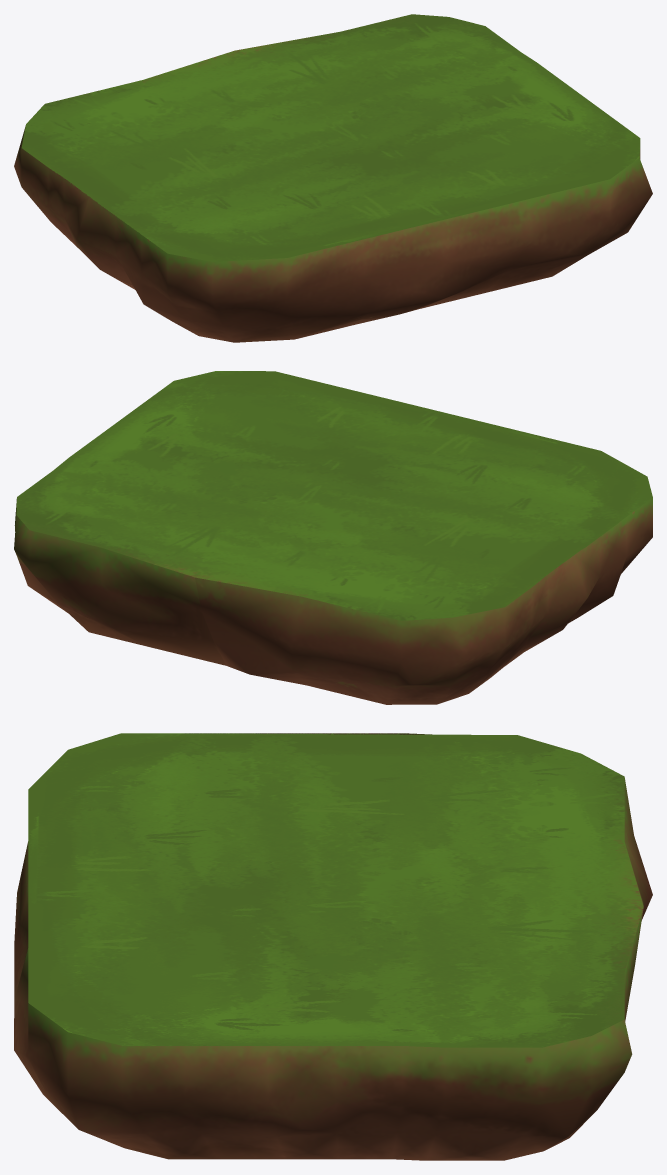
Rendered from Ground_Update.fbx.
3 renders of one model, top to bottom at view 1: azimuth 30°, elevation 25°; view 2: azimuth 150°, elevation 25°; view 3: azimuth 270°, elevation 25°, orthographic. The views are drawn at different scales.
Parts seen in each view (by area): view 1: Ground; view 2: Ground; view 3: Ground.
Boxes of the visible parts, <box> form: Ground: <box>14,14,652,342</box>; Ground: <box>14,371,652,704</box>; Ground: <box>14,733,652,1160</box>.
Bounding box in the file's own units: 4273 × 891 × 3538.
